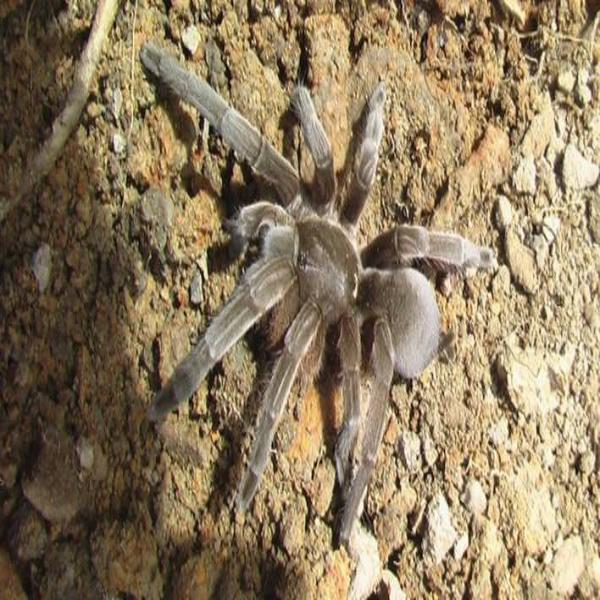Tarantula_Spider: (140, 44, 493, 541)
